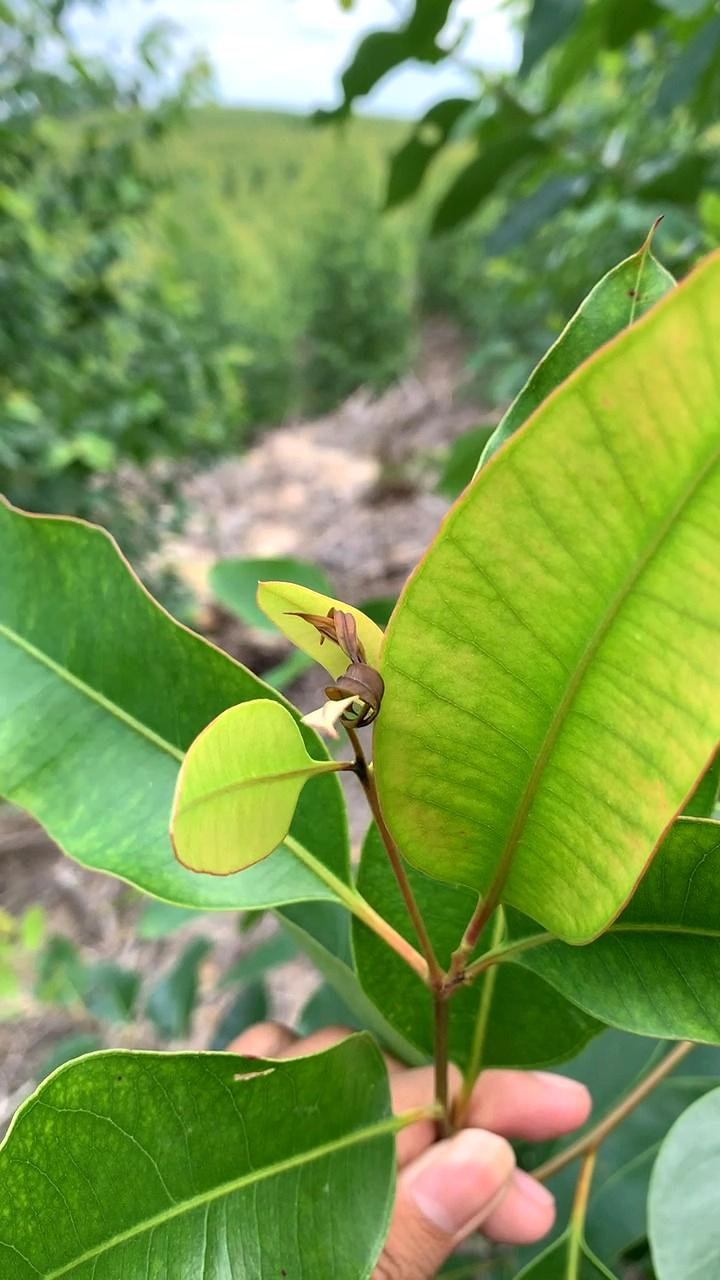Helopeltis-Withered Sprout: (270, 593, 413, 737)
